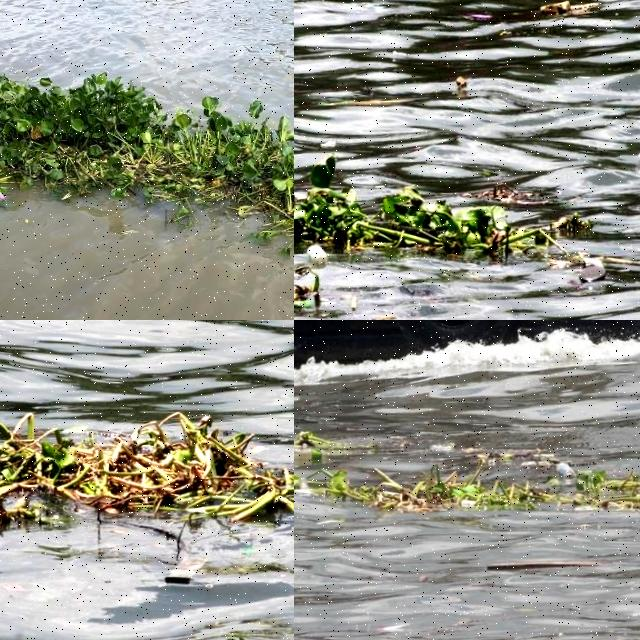water-hyacinth: (1, 44, 295, 269), (1, 380, 295, 534), (295, 149, 582, 262), (295, 443, 544, 515), (567, 451, 640, 509), (295, 424, 334, 463)
